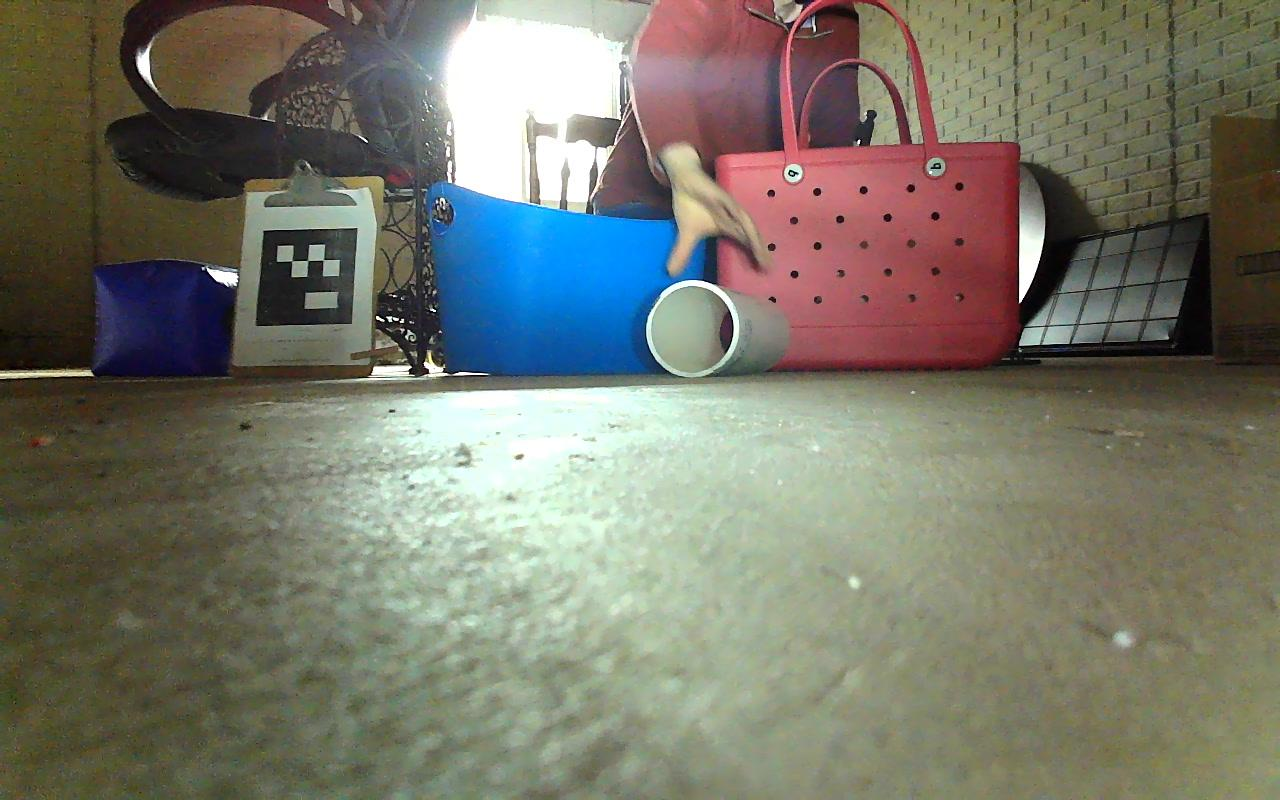coral: (647, 280, 790, 376)
